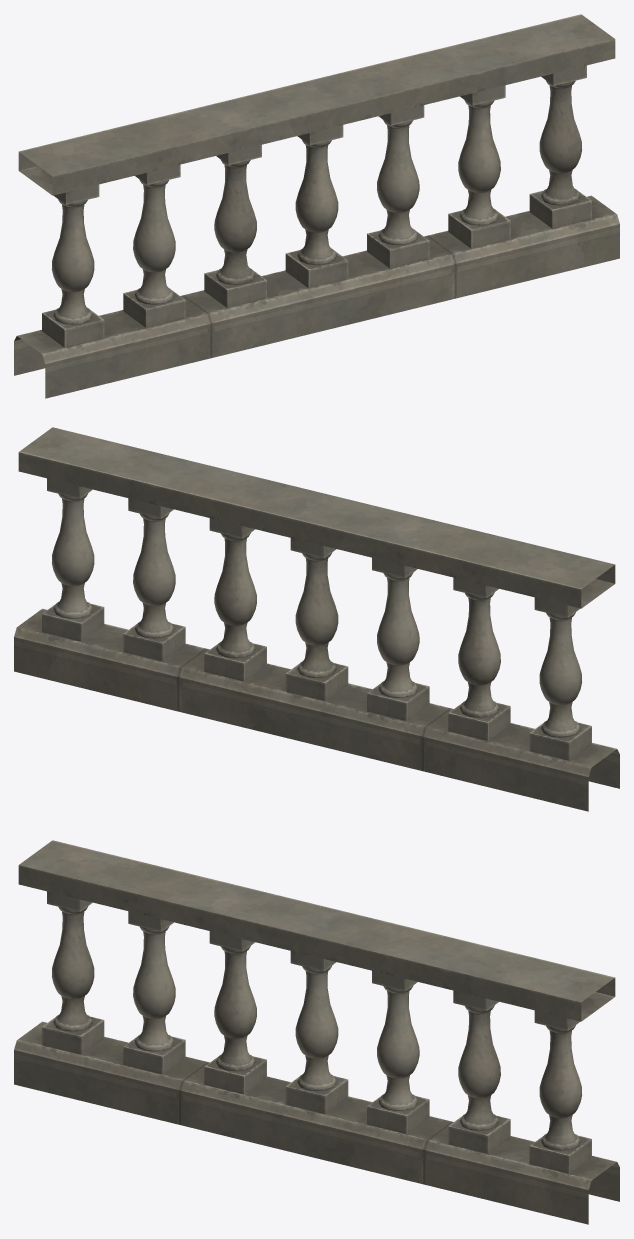
File: balustrade.fbx
3 views of the same model, one above another, from view 1: azimuth 30°, elevation 25°; view 2: azimuth 150°, elevation 25°; view 3: azimuth 330°, elevation 25° (orthographic).
Visible parts, largest first — view 1: balustrade; view 2: balustrade; view 3: balustrade.
Part boxes in pixels (x1,y1,x2,y2): balustrade: [14, 14, 619, 398]; balustrade: [14, 427, 619, 811]; balustrade: [14, 840, 619, 1224].
Bounding box in the file's own units: 269 × 99.12 × 27.54.
